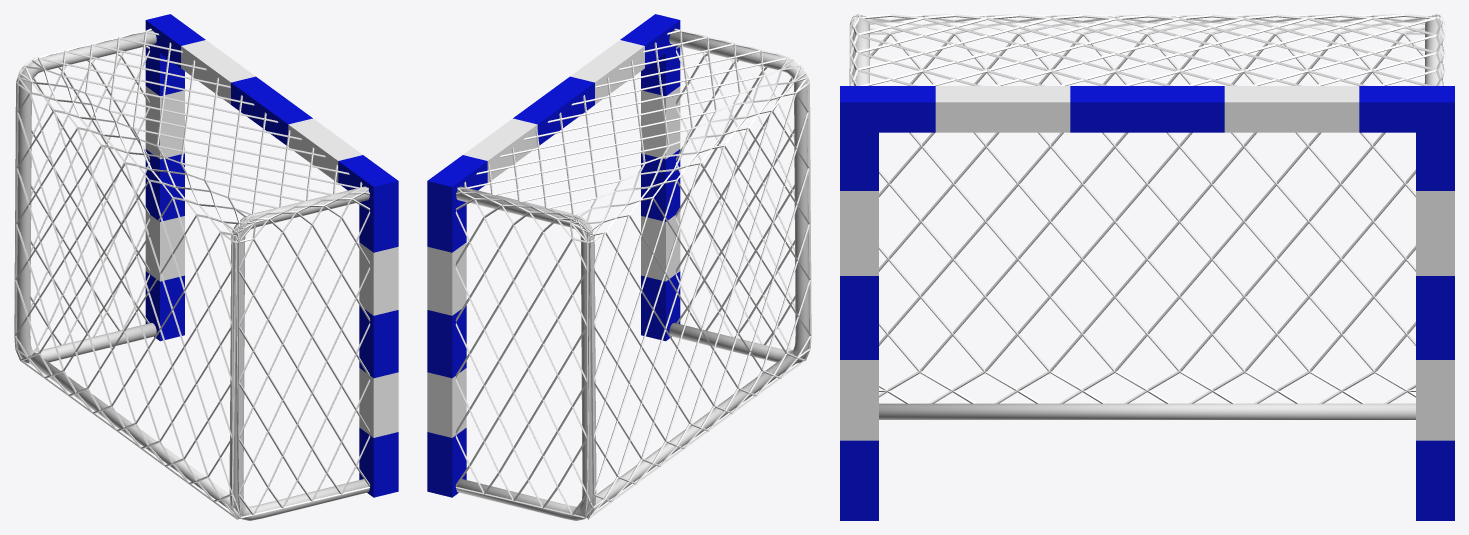
File: bramka.fbx
The picture shows the model from 3 angles, left to right: view 1: azimuth 30°, elevation 25°; view 2: azimuth 150°, elevation 25°; view 3: azimuth 270°, elevation 25°; orthographic projection. The views are drawn at different scales.
Visible parts, largest first — view 1: Plane; view 2: Plane; view 3: Plane.
Boxes of the visible parts, x1,y1,x2,y2 form: Plane: (14,14,398,520); Plane: (427,14,811,520); Plane: (840,14,1454,520).
Size of the model in its own units: 246 by 452 by 601.
